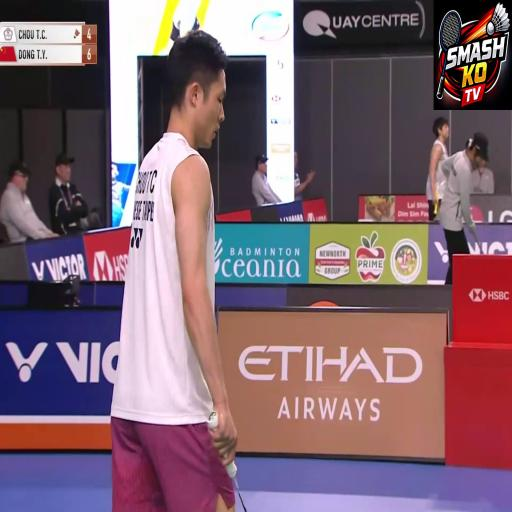player: (0, 0, 320, 306)
